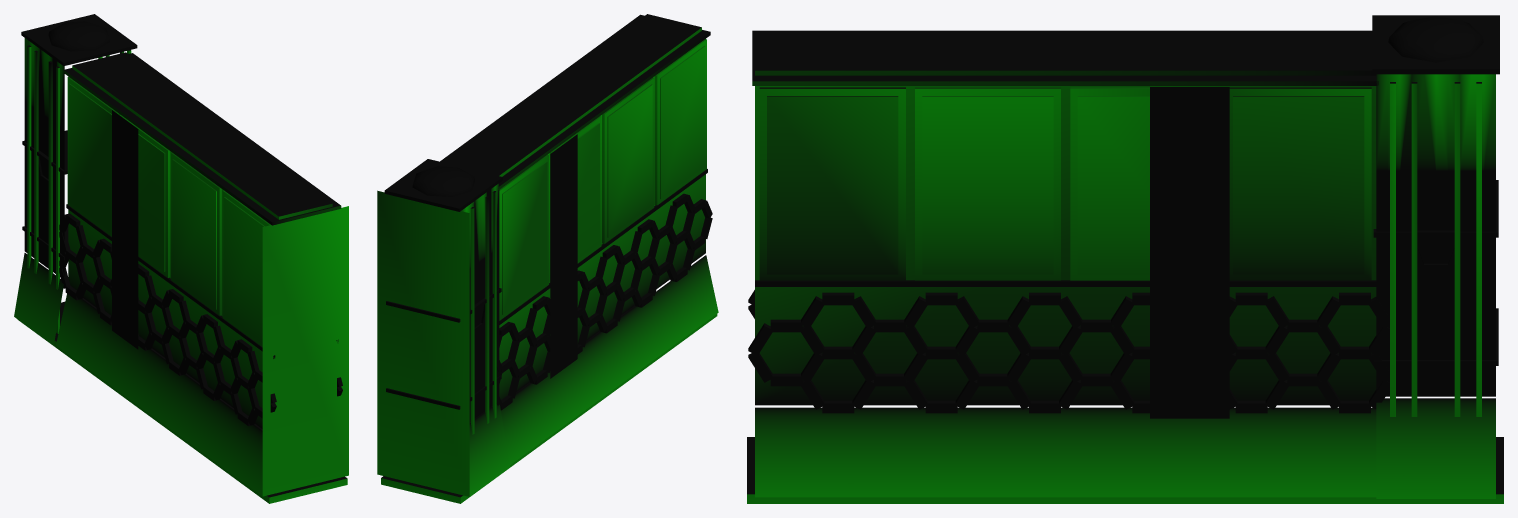
Rendered from d_heavywall.glb.
3 renders of one model, left to right at view 1: azimuth 30°, elevation 25°; view 2: azimuth 150°, elevation 25°; view 3: azimuth 270°, elevation 25°, orthographic. The views are drawn at different scales.
Parts seen in each view (by area): view 1: lod0; view 2: lod0; view 3: lod0.
Boxes of the visible parts, left/top/right/bottom form: lod0: left=14, top=14, right=348, bottom=503; lod0: left=377, top=14, right=718, bottom=503; lod0: left=747, top=15, right=1503, bottom=503.
Size of what is drawn, in the model's own units: 5.91 by 18.66 by 28.45.
